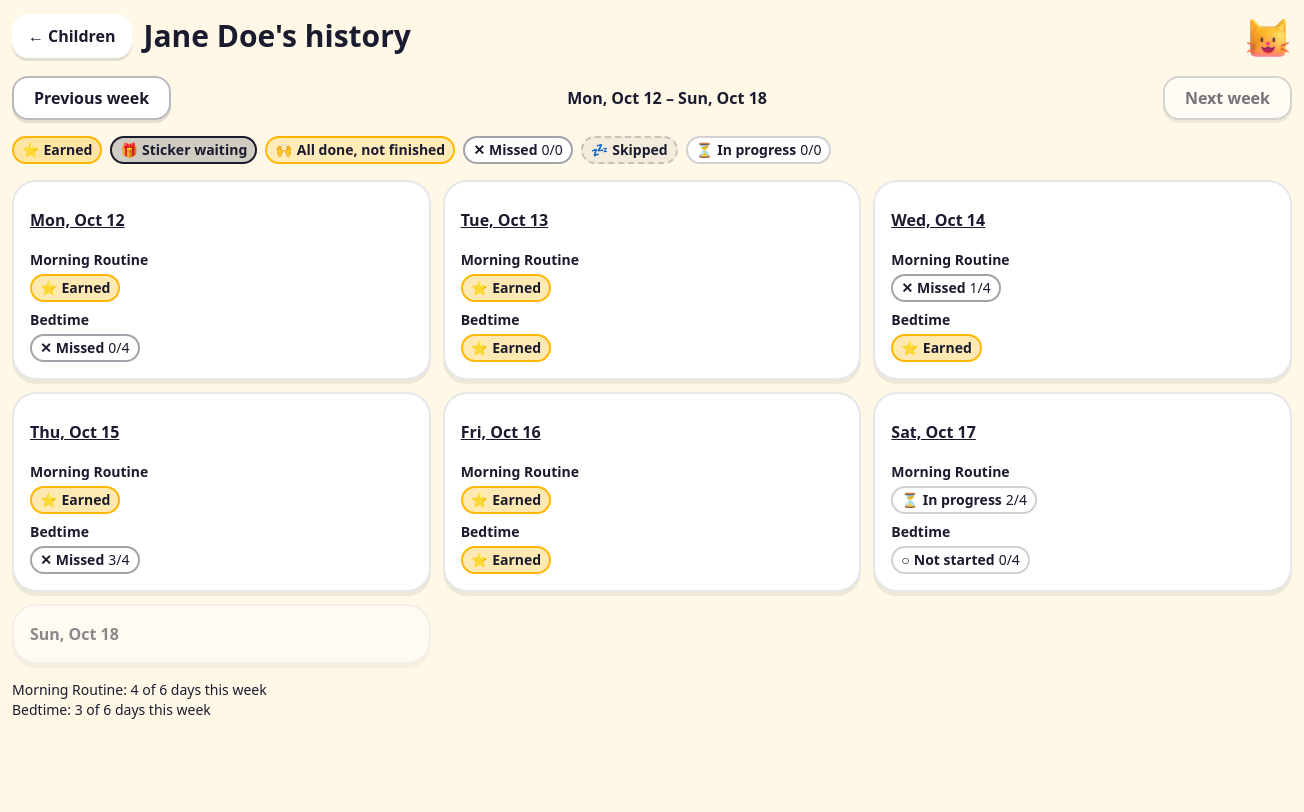
Scenario: HistoryScreen › navigates to the previous week and fetches older days
Click the button "Previous week".
click(92, 98)  # box [12,76,171,120]
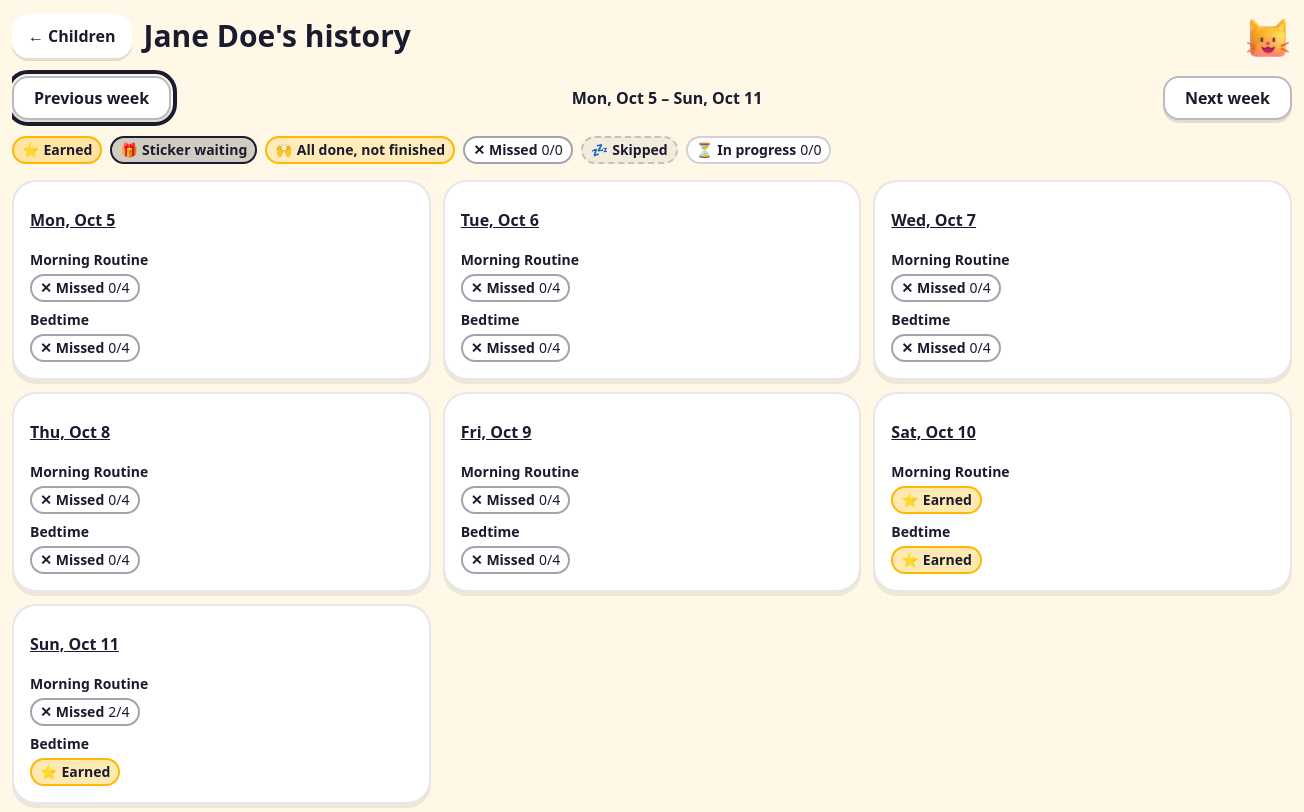
expect the button "Next week" is enabled: met, box [1163,76,1292,120]
